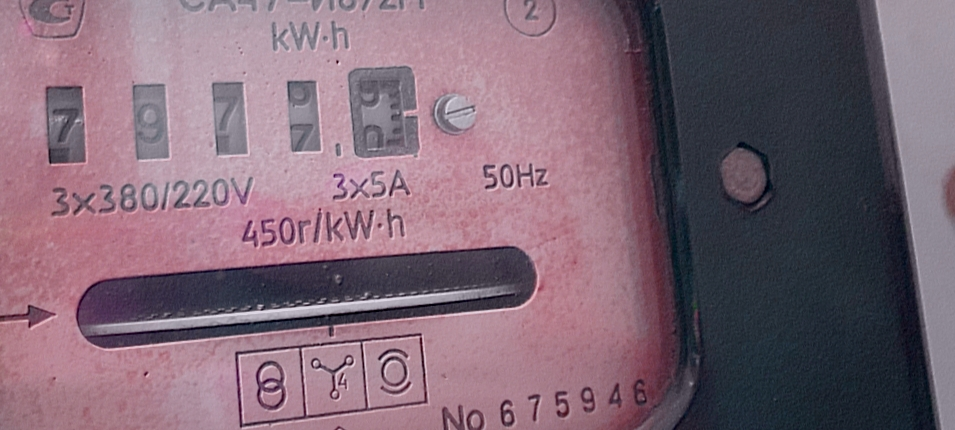0: (358, 121, 384, 152)
7: (45, 102, 82, 150), (285, 114, 318, 158), (210, 92, 242, 135)
9: (131, 99, 166, 149), (353, 77, 386, 111)
screen: (27, 41, 437, 203)
